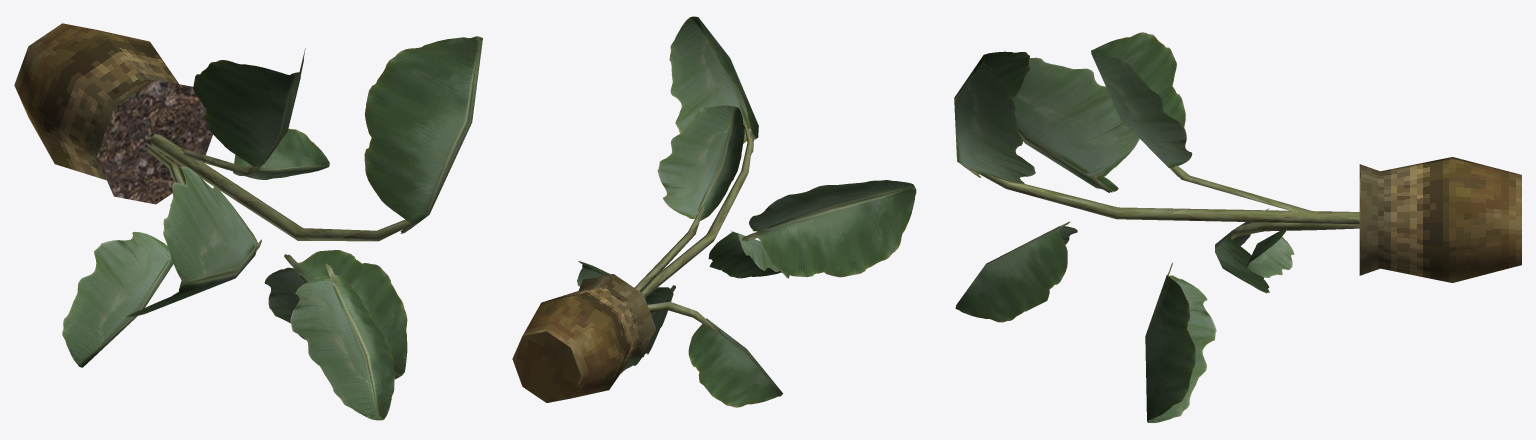
The model's file is nt_2020_greenhouse_plant_01_LOD2.obj.
3 renders of one model, left to right at view 1: azimuth 30°, elevation 25°; view 2: azimuth 150°, elevation 25°; view 3: azimuth 270°, elevation 25°, orthographic. The views are drawn at different scales.
Parts seen in each view (by area): view 1: mtl_potted_plant01, mtl_pb_plant_pot, mtl_flower_pot_dirt; view 2: mtl_potted_plant01, mtl_pb_plant_pot; view 3: mtl_potted_plant01, mtl_pb_plant_pot.
Part boxes in pixels (x1,y1,x2,y2): mtl_potted_plant01: (62, 36, 482, 420); mtl_pb_plant_pot: (14, 23, 178, 180); mtl_flower_pot_dirt: (96, 80, 212, 204); mtl_potted_plant01: (577, 16, 916, 407); mtl_pb_plant_pot: (512, 274, 655, 402); mtl_potted_plant01: (954, 32, 1359, 422); mtl_pb_plant_pot: (1359, 157, 1521, 282).
Size of the model in its own units: 134 by 132 by 182.
